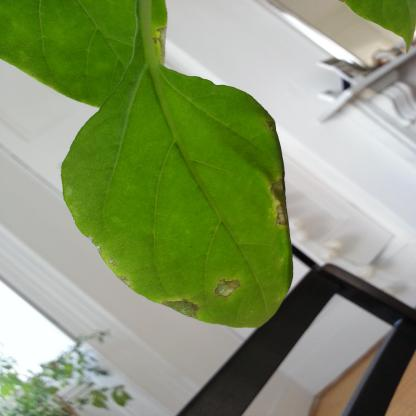bell pepper leaf spot: (59, 57, 299, 331)
